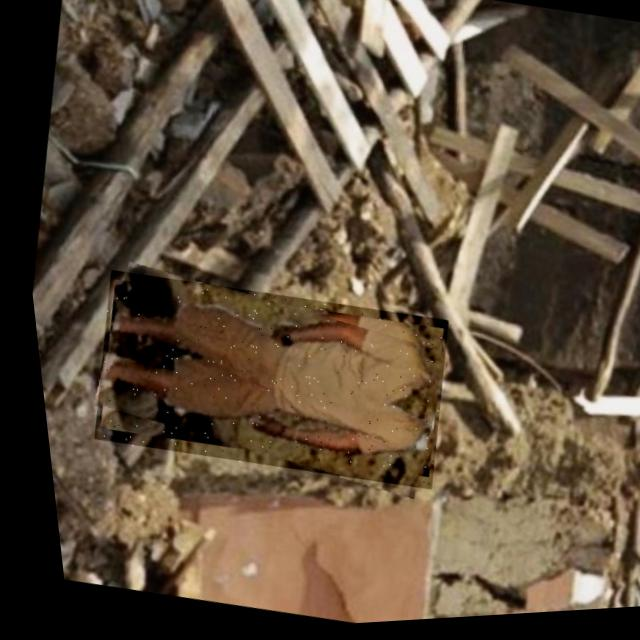Person in Rubble: (68, 255, 453, 510)
